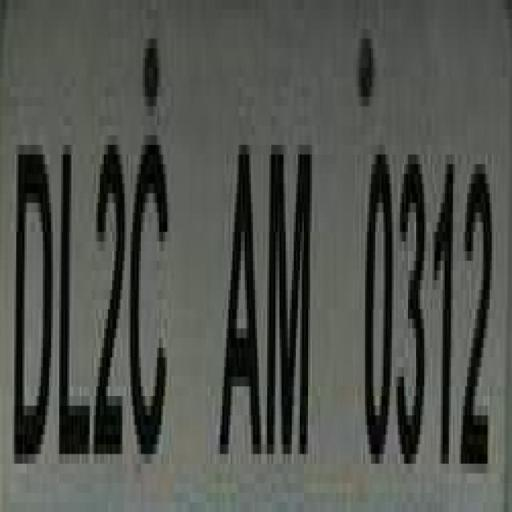number plate: (0, 9, 485, 512)
